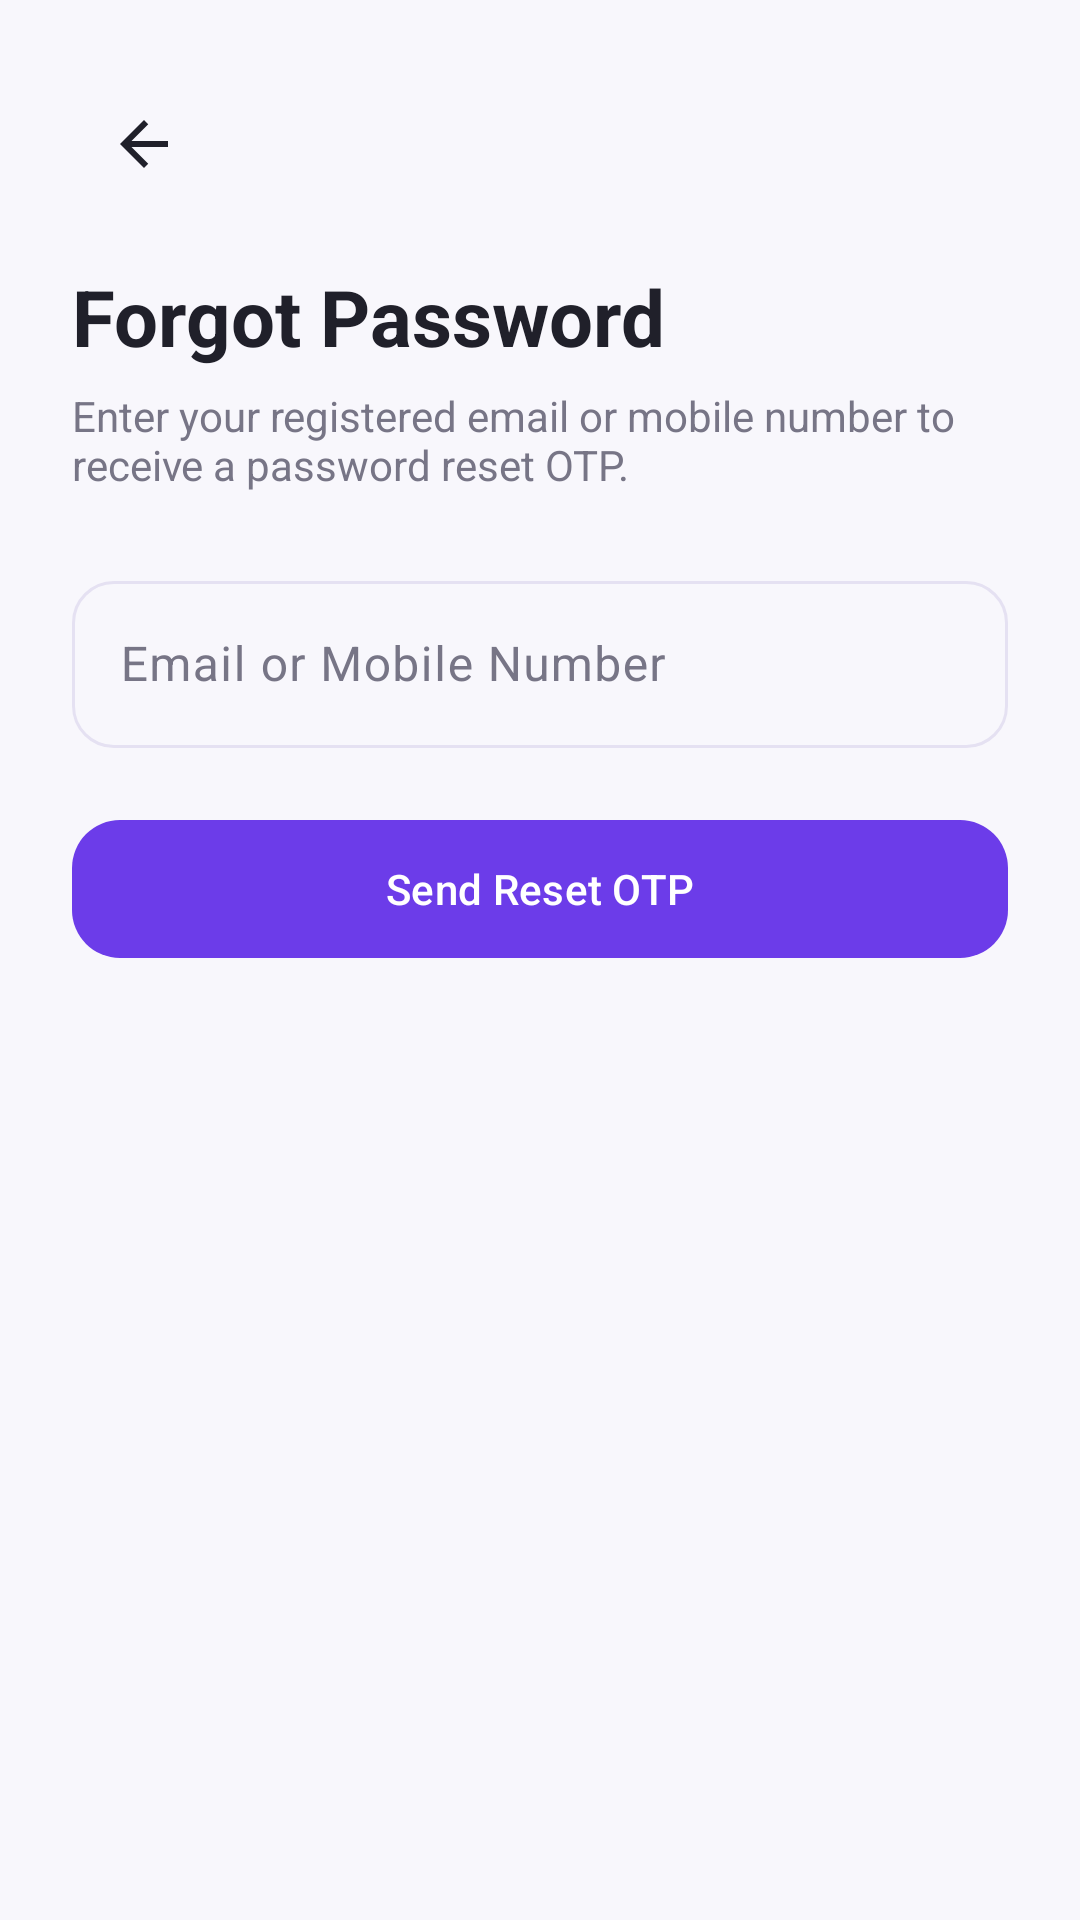

Locate icon controls on the screen. Image size 1080*1920, boxes as (x1, y1, x2, y2).
Back: (120, 120, 168, 168)
